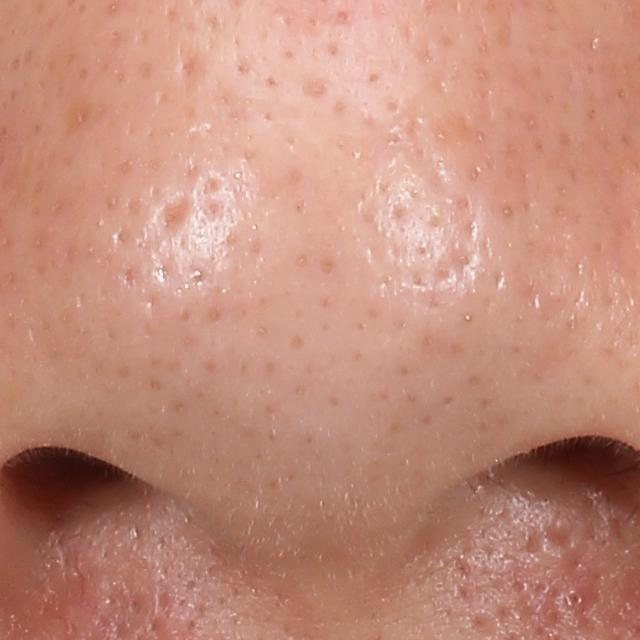atrophic_scar: (154, 192, 194, 237), (177, 52, 211, 89)
